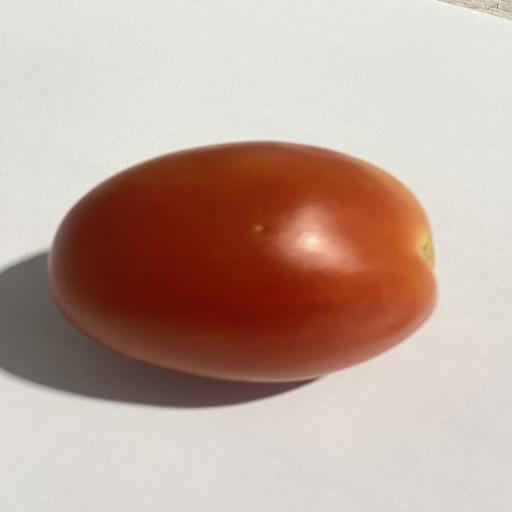ripe: (49, 142, 436, 382)
